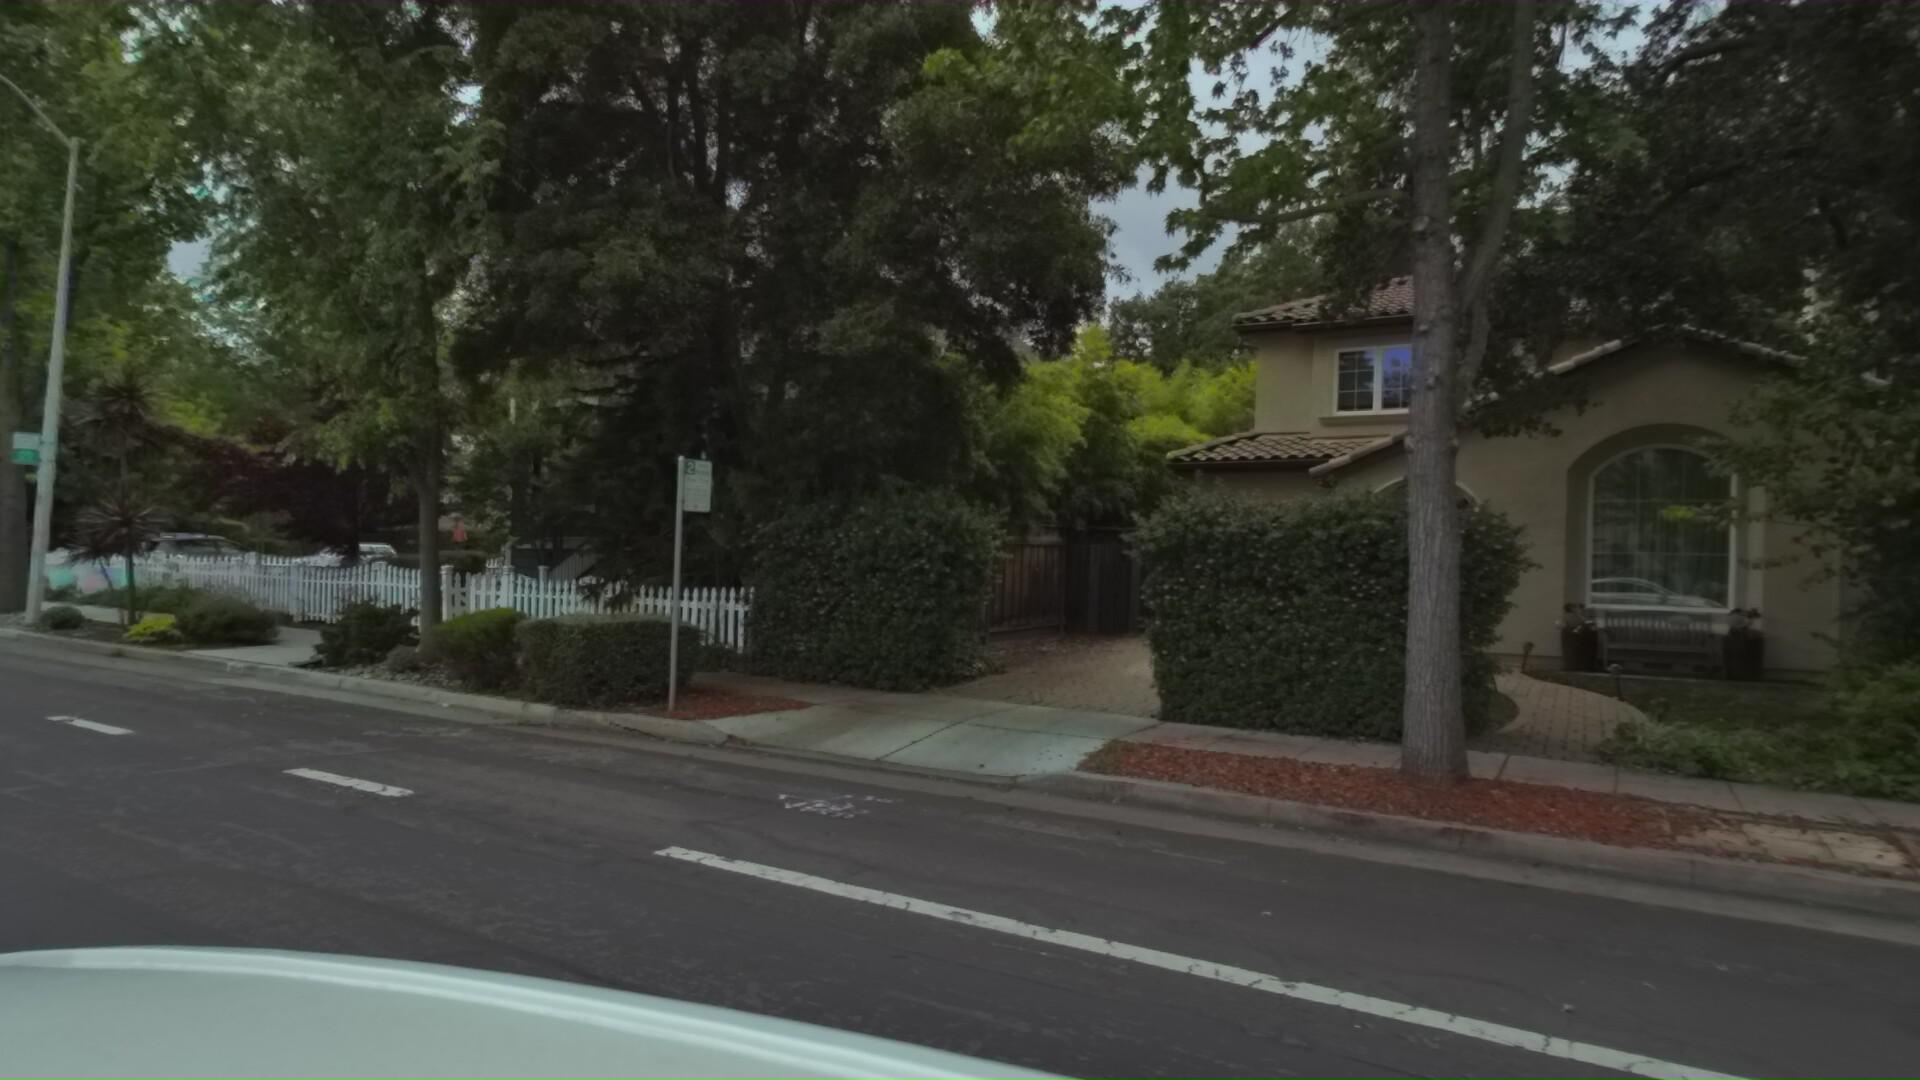car: (102, 529, 299, 593)
